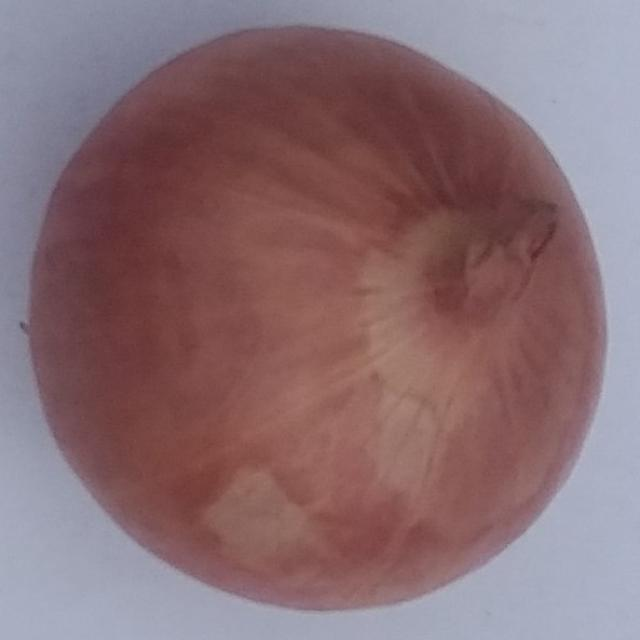onion: (28, 27, 611, 614)
